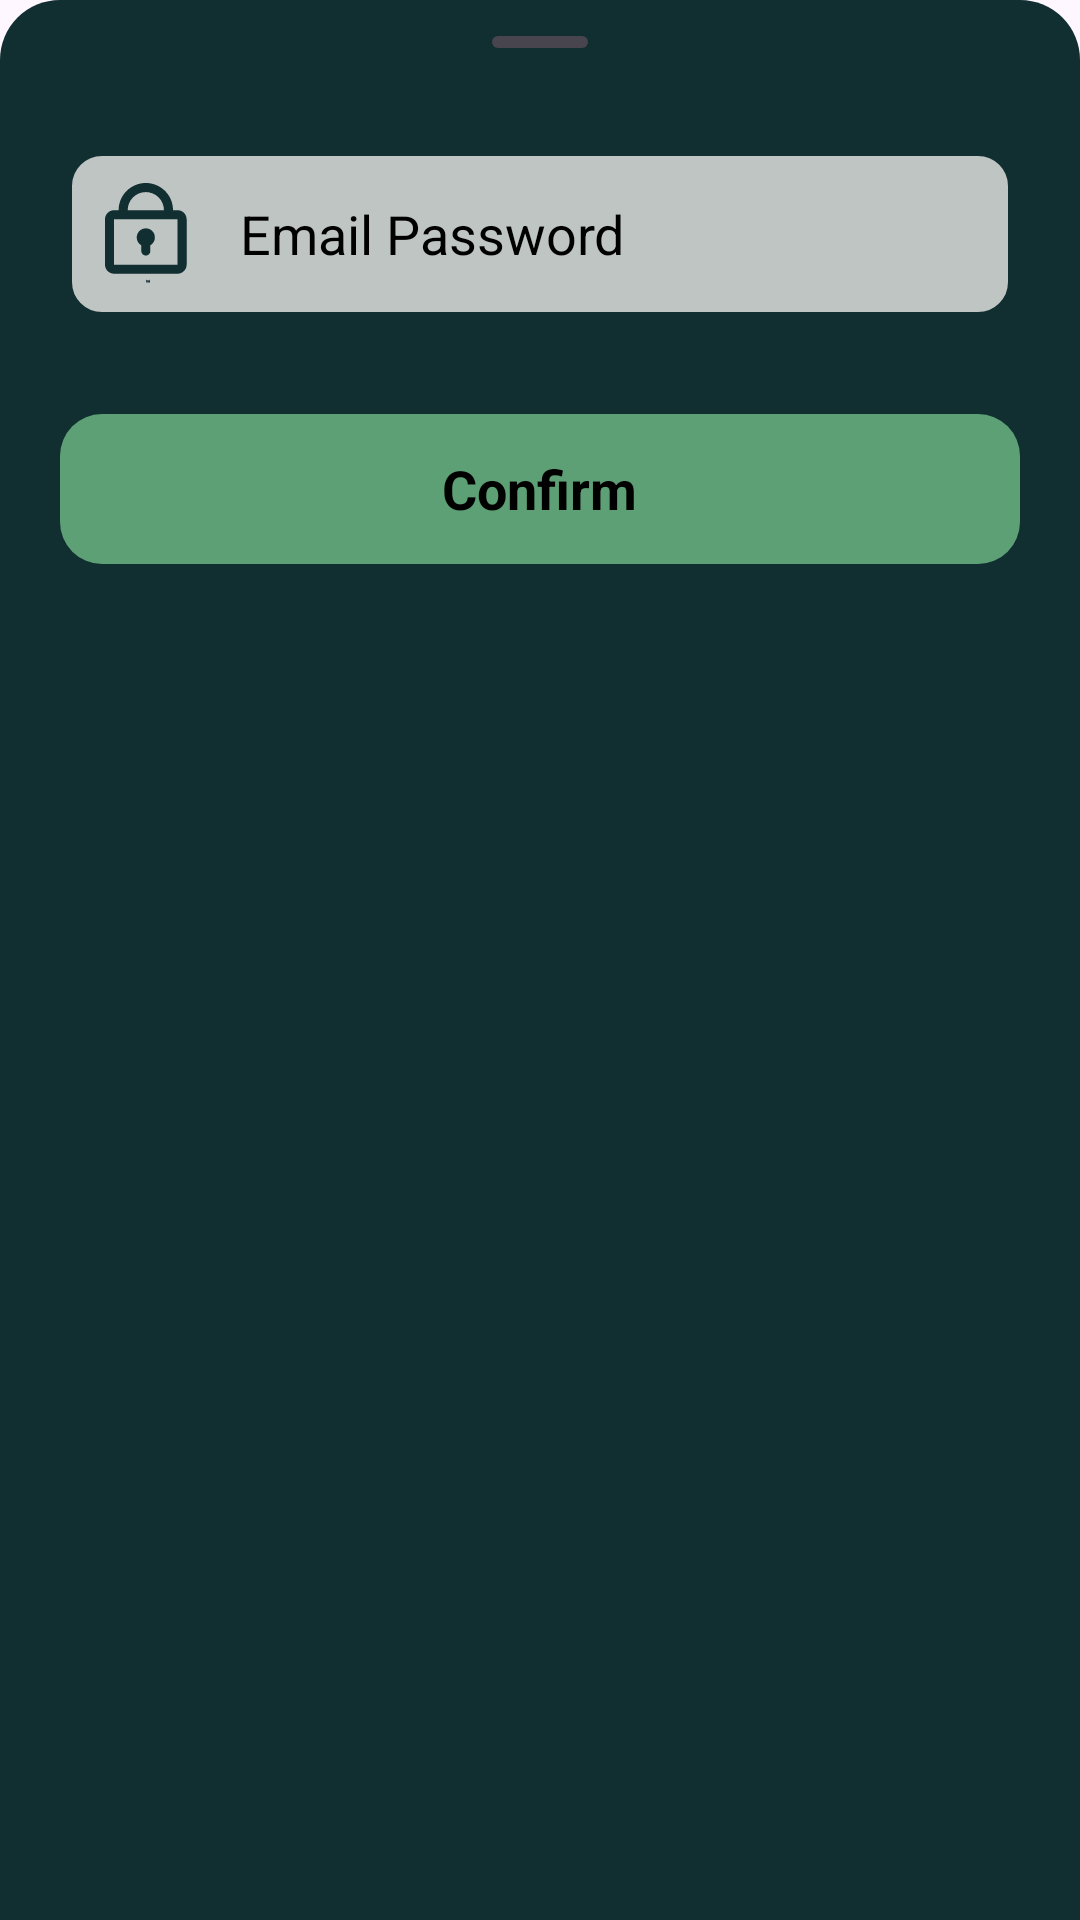

Screen size 1080*1920. Icon name, then its center in pixels as point (x, y):
lock: point (146, 233)
